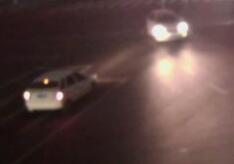car: (23, 64, 99, 112), (145, 10, 188, 43)
